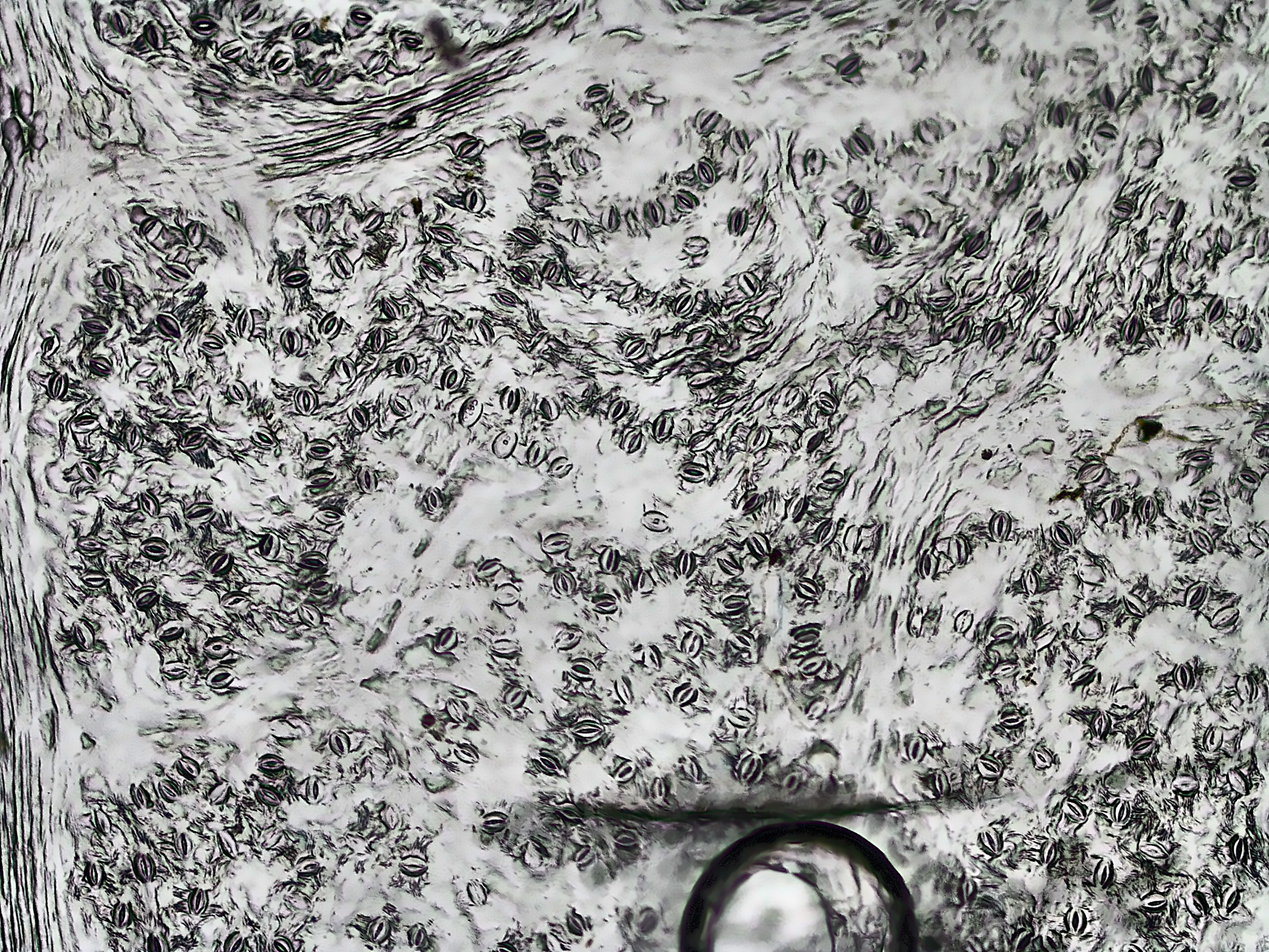stomata: (533, 749, 564, 775), (739, 753, 764, 785), (1190, 527, 1216, 557), (139, 536, 171, 560), (978, 825, 1002, 857), (571, 720, 604, 743), (987, 617, 1017, 642), (122, 420, 144, 454), (249, 424, 280, 448), (206, 550, 233, 577), (1133, 7, 1162, 32), (1122, 313, 1144, 345), (107, 8, 133, 35), (492, 431, 518, 458), (737, 488, 764, 514), (416, 255, 442, 282), (568, 657, 597, 681), (71, 619, 94, 649), (460, 396, 482, 427), (947, 535, 969, 566), (554, 801, 585, 823), (1220, 885, 1242, 916), (695, 107, 721, 133), (75, 458, 101, 484), (799, 426, 824, 453), (318, 312, 342, 340), (716, 551, 744, 575), (641, 510, 670, 533), (1076, 460, 1105, 483), (1063, 795, 1086, 824), (1185, 890, 1208, 919), (988, 511, 1010, 541), (491, 583, 521, 605), (398, 855, 428, 877), (205, 667, 236, 688), (930, 768, 951, 799), (355, 465, 379, 492), (730, 629, 757, 653), (366, 916, 390, 943), (1064, 907, 1088, 934), (330, 249, 353, 277), (132, 587, 160, 610), (848, 188, 871, 216), (728, 706, 756, 729), (197, 333, 226, 355), (868, 227, 890, 256), (1012, 265, 1033, 295), (792, 626, 822, 647), (1227, 768, 1248, 798), (156, 314, 181, 339), (239, 0, 263, 26), (441, 365, 465, 391), (1022, 206, 1046, 232), (747, 531, 771, 557), (814, 519, 837, 546), (305, 439, 336, 459), (310, 202, 330, 233), (429, 226, 460, 246), (184, 502, 215, 522), (532, 176, 560, 198), (424, 486, 446, 514), (77, 535, 105, 557), (134, 853, 156, 881), (1185, 581, 1207, 609), (1237, 675, 1259, 703), (1137, 495, 1158, 524), (480, 812, 509, 833), (296, 551, 328, 570), (601, 203, 621, 233), (298, 603, 323, 627), (728, 206, 748, 236), (552, 570, 576, 595), (798, 652, 828, 672), (673, 189, 699, 212), (599, 546, 622, 572), (963, 279, 989, 302), (672, 683, 698, 706), (295, 386, 317, 413), (555, 627, 582, 649), (203, 638, 231, 659), (305, 775, 326, 803), (888, 295, 909, 323), (679, 461, 708, 481), (1095, 858, 1113, 890), (434, 628, 457, 653), (1050, 522, 1073, 547), (227, 379, 249, 405), (335, 356, 357, 382), (180, 429, 206, 451), (1212, 606, 1238, 628), (235, 308, 254, 338), (79, 569, 109, 588), (490, 638, 520, 657), (541, 533, 571, 552), (281, 328, 302, 355), (137, 490, 158, 517), (644, 200, 665, 227), (804, 148, 825, 175), (652, 413, 673, 440), (748, 425, 769, 452), (674, 550, 695, 577), (1102, 496, 1123, 523), (447, 697, 468, 724), (1203, 725, 1224, 752), (785, 495, 805, 523), (614, 677, 634, 705), (688, 371, 723, 387), (1170, 774, 1198, 794), (220, 591, 251, 609), (140, 217, 163, 241), (674, 291, 697, 315), (920, 118, 943, 142), (218, 828, 237, 857), (1174, 661, 1193, 690), (1092, 710, 1111, 739), (1138, 840, 1167, 859), (1229, 833, 1248, 862), (849, 131, 871, 156), (984, 321, 1006, 346), (463, 187, 484, 213), (729, 129, 750, 155), (506, 685, 527, 711), (527, 440, 547, 467), (1069, 666, 1096, 686), (520, 130, 548, 149), (49, 372, 68, 400), (128, 784, 150, 808), (796, 577, 820, 599), (1123, 592, 1145, 616), (161, 262, 192, 279), (313, 507, 344, 524), (192, 13, 217, 34), (260, 533, 281, 558), (681, 631, 702, 656), (70, 416, 99, 434), (501, 385, 519, 414), (219, 40, 245, 60), (689, 431, 715, 451), (350, 404, 369, 431), (817, 470, 844, 489), (591, 595, 618, 614), (178, 757, 200, 780), (618, 283, 641, 305), (467, 881, 489, 904), (260, 753, 284, 774), (294, 856, 322, 874), (739, 272, 760, 296), (1165, 297, 1186, 321), (616, 758, 637, 782), (614, 830, 638, 851), (976, 757, 1000, 778), (1039, 838, 1057, 866), (102, 266, 122, 291), (388, 395, 413, 415), (257, 785, 282, 805), (1135, 65, 1155, 90), (989, 661, 1020, 677), (474, 320, 493, 346), (330, 730, 349, 756), (740, 315, 766, 334), (86, 860, 104, 887), (682, 756, 700, 783), (817, 392, 839, 414), (269, 52, 292, 73), (313, 65, 334, 88), (695, 161, 716, 184), (396, 353, 417, 376), (608, 111, 632, 131), (381, 296, 401, 320), (477, 559, 501, 579), (1110, 798, 1130, 822), (1022, 568, 1039, 596), (145, 24, 164, 49), (370, 328, 389, 353), (174, 833, 193, 858), (1235, 324, 1254, 349), (1130, 738, 1155, 757), (113, 900, 131, 926), (921, 550, 937, 579), (158, 779, 180, 800), (783, 770, 804, 792), (835, 55, 858, 75), (408, 923, 428, 946), (512, 228, 539, 245), (161, 661, 188, 678), (190, 887, 207, 914), (721, 594, 748, 611), (999, 710, 1026, 727), (458, 139, 482, 158), (548, 457, 572, 476), (687, 328, 711, 347), (1050, 103, 1069, 127), (684, 236, 709, 254), (1142, 891, 1167, 909), (927, 291, 955, 307), (362, 211, 384, 231), (209, 782, 229, 804), (622, 430, 642, 452), (807, 697, 827, 719), (623, 338, 646, 357), (1237, 469, 1260, 488), (306, 470, 335, 485), (88, 357, 112, 375), (566, 219, 584, 243), (1034, 338, 1052, 362), (908, 736, 924, 763), (1055, 307, 1072, 332), (964, 233, 984, 254), (541, 397, 560, 419), (608, 399, 627, 421), (1206, 298, 1225, 320), (954, 610, 973, 632), (564, 910, 583, 932), (284, 268, 307, 286), (650, 777, 668, 800), (83, 319, 107, 336), (494, 290, 518, 307), (1184, 451, 1211, 466), (1093, 126, 1118, 142), (1196, 95, 1216, 115), (573, 846, 593, 866), (351, 7, 373, 25), (543, 260, 561, 282), (1199, 491, 1221, 509), (1034, 748, 1052, 770), (584, 85, 608, 101), (1230, 170, 1254, 186), (292, 19, 313, 37), (455, 744, 476, 762), (43, 336, 60, 358), (1098, 84, 1115, 106), (437, 318, 453, 341), (402, 30, 421, 49), (1218, 226, 1233, 250), (1112, 199, 1133, 216), (96, 808, 110, 833), (513, 264, 530, 283), (1066, 159, 1081, 180), (715, 393, 736, 408), (160, 627, 182, 641)
